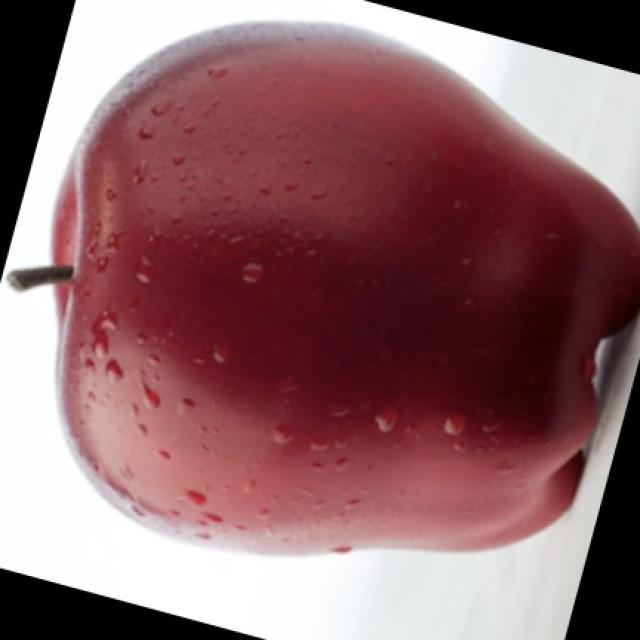Fresh Apple: (81, 34, 640, 563)
